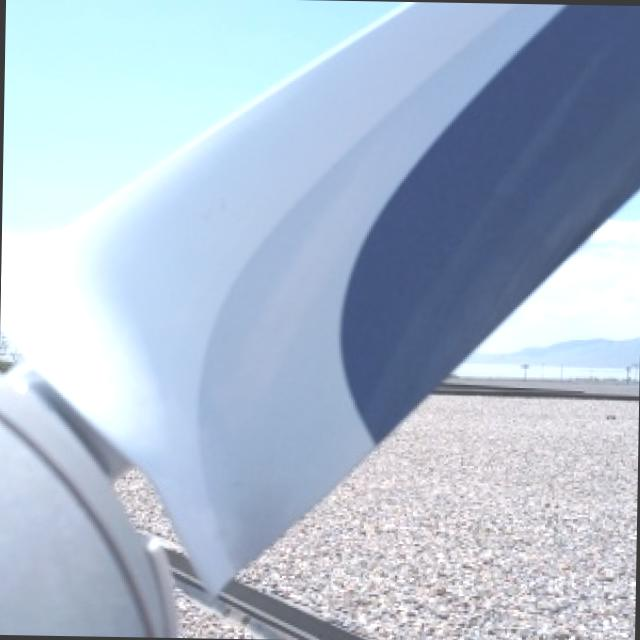healthy: (0, 1, 640, 635)
